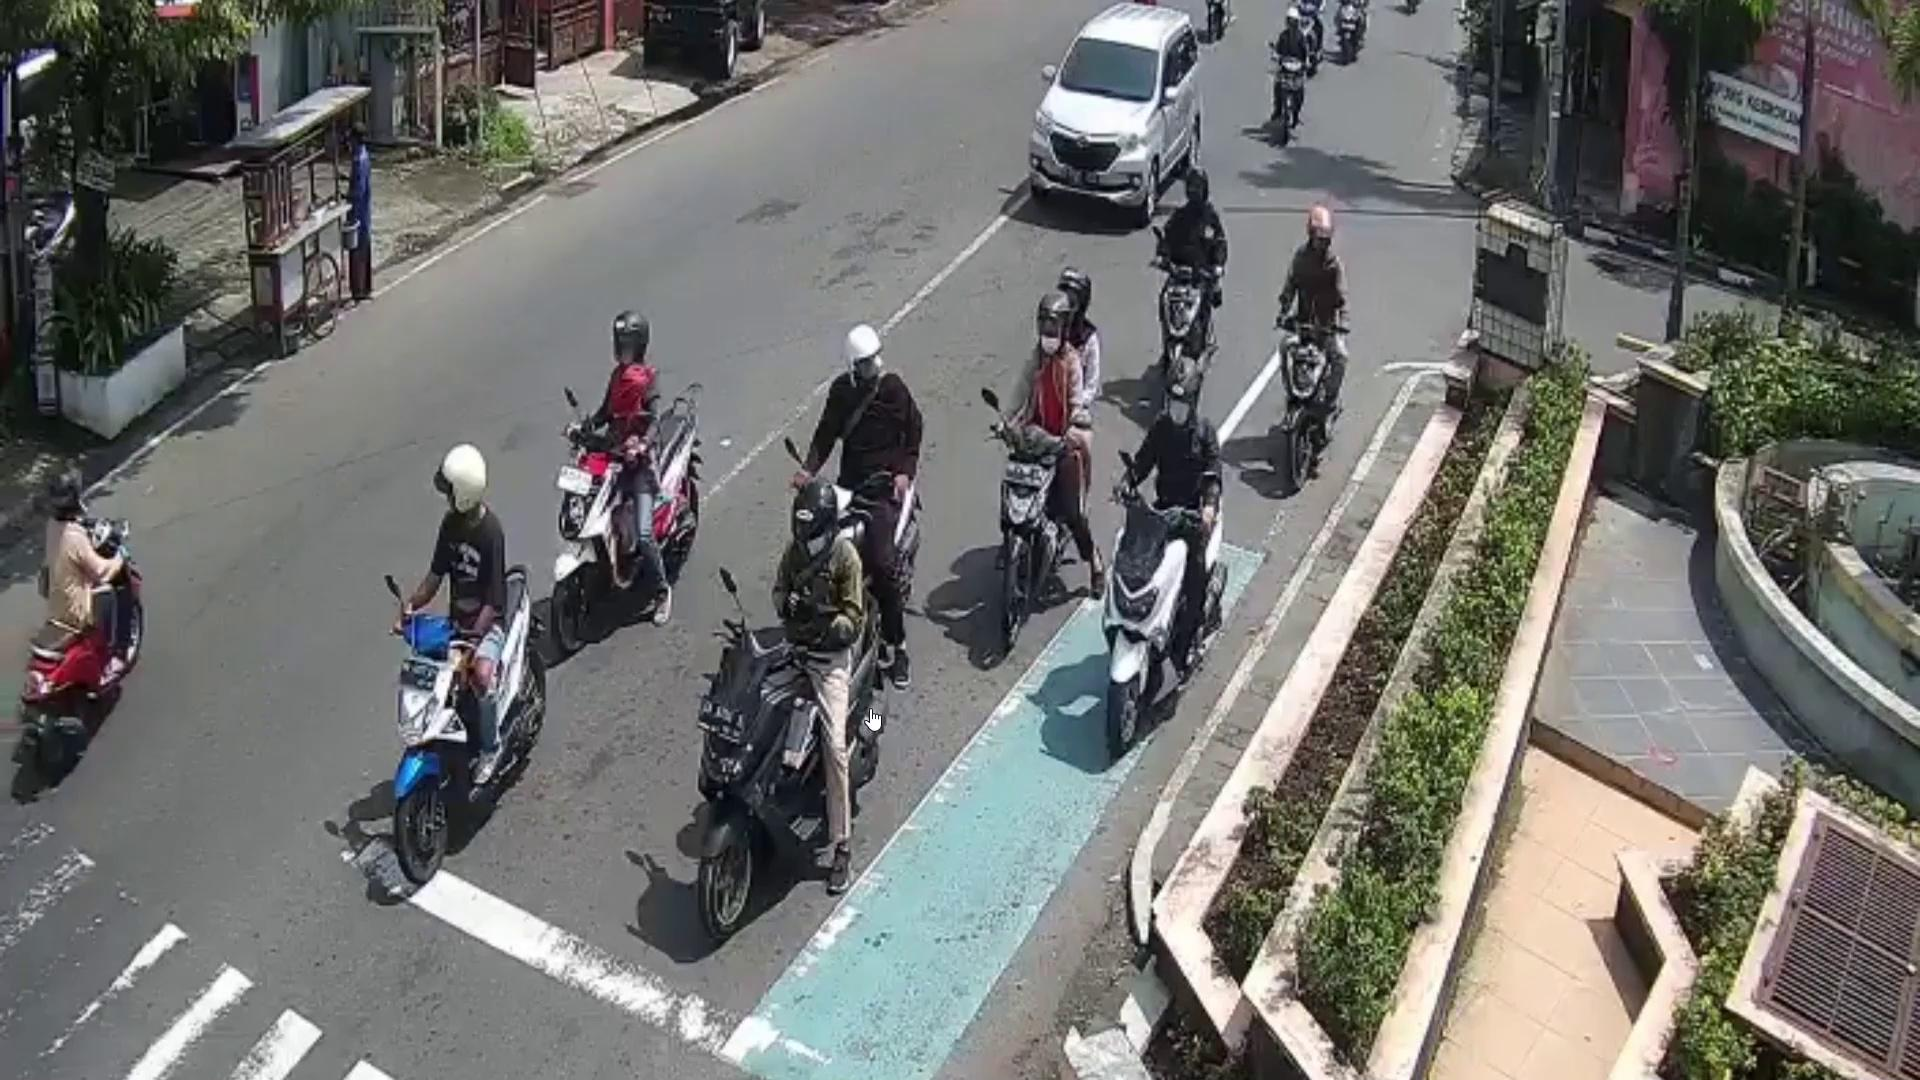car: (1033, 4, 1201, 215)
motorbike: (699, 607, 885, 943), (389, 560, 546, 890), (545, 405, 692, 650), (22, 518, 148, 778), (1105, 484, 1217, 756), (996, 418, 1048, 644), (1273, 315, 1340, 481), (1158, 252, 1216, 364)
